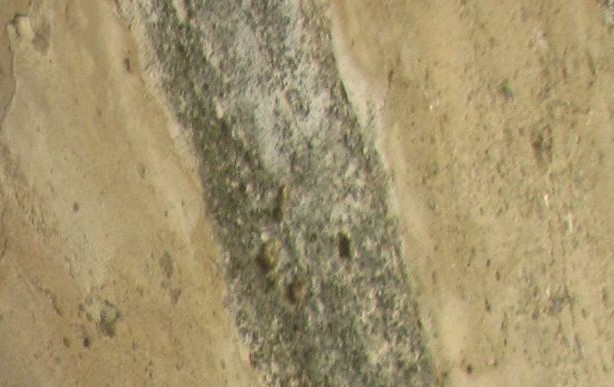Corrosion: (131, 1, 440, 387)
